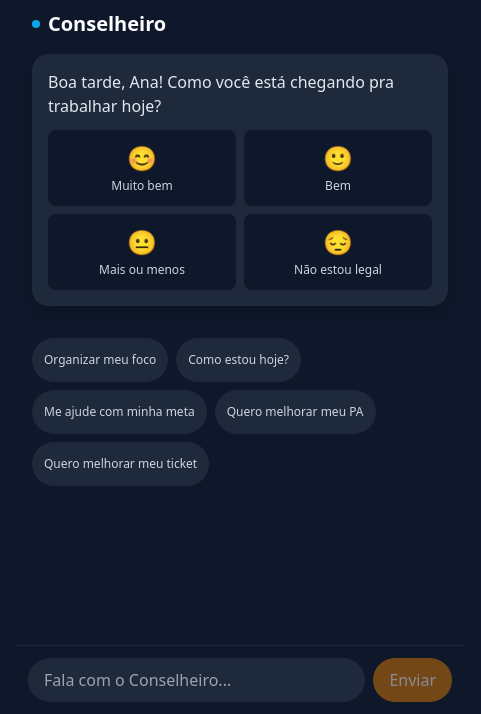
it: Coach › registra o check-in e some com o card ao clicar num mood
This screenshot has width=481, height=714.
Click the text "Bem" at (338, 186), box [325, 178, 351, 194]
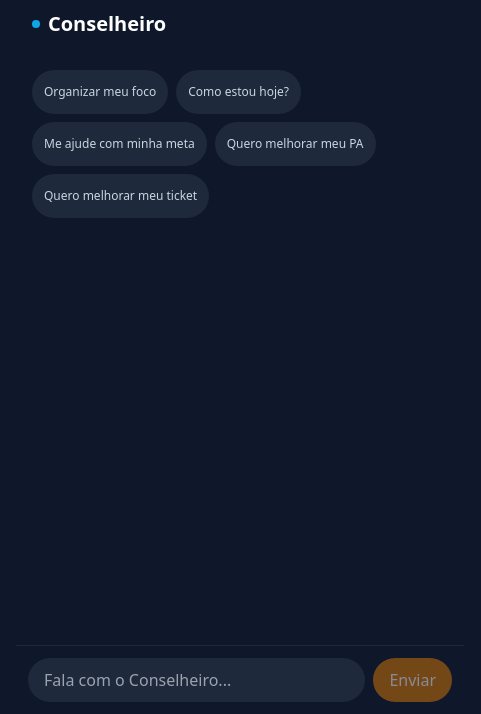
expect the text "Como você está chegando pra trabalhar hoje?" is gone: met
